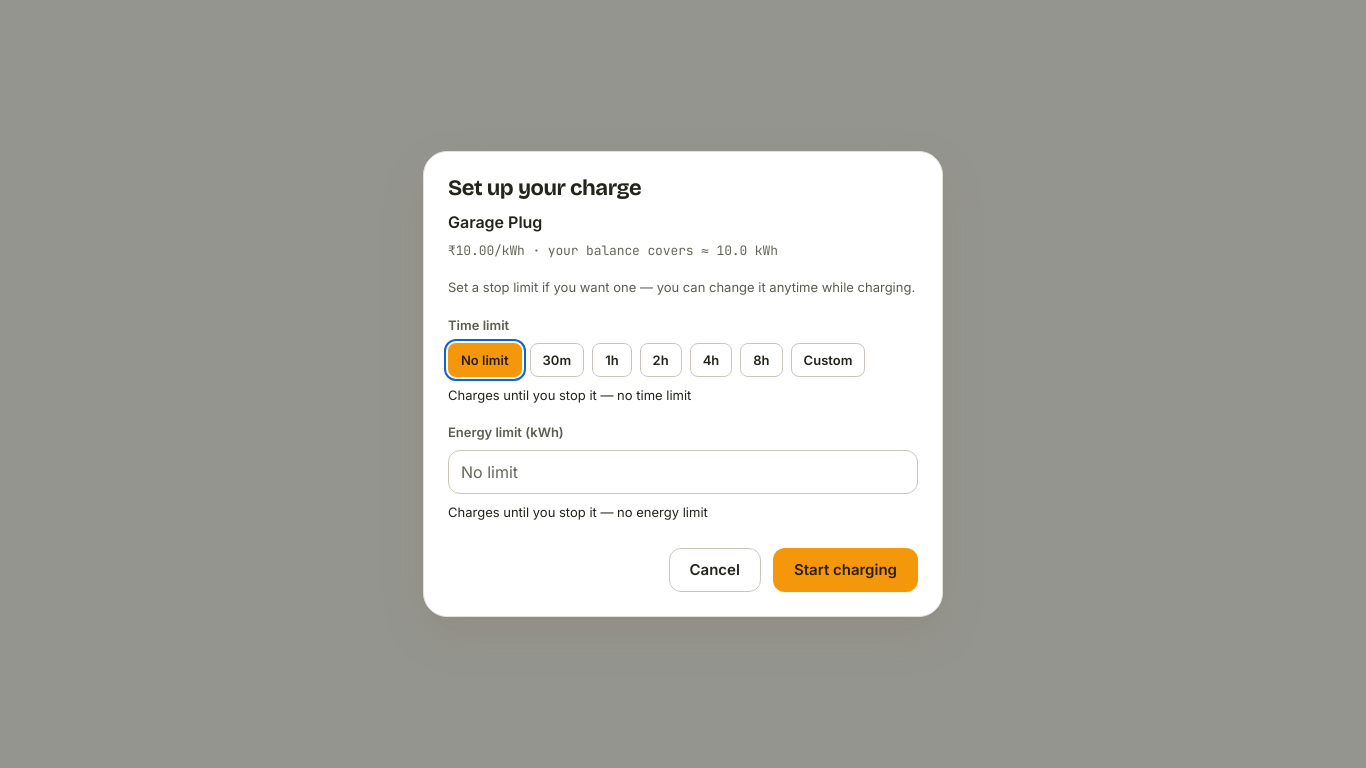
Scenario: ChargeSetupModal — limits payload › custom time cannot exceed 24 hours (1440 minutes)
The width and height of the screenshot is (1366, 768).
Click the button "Custom": (828, 360) [791,343,865,377]
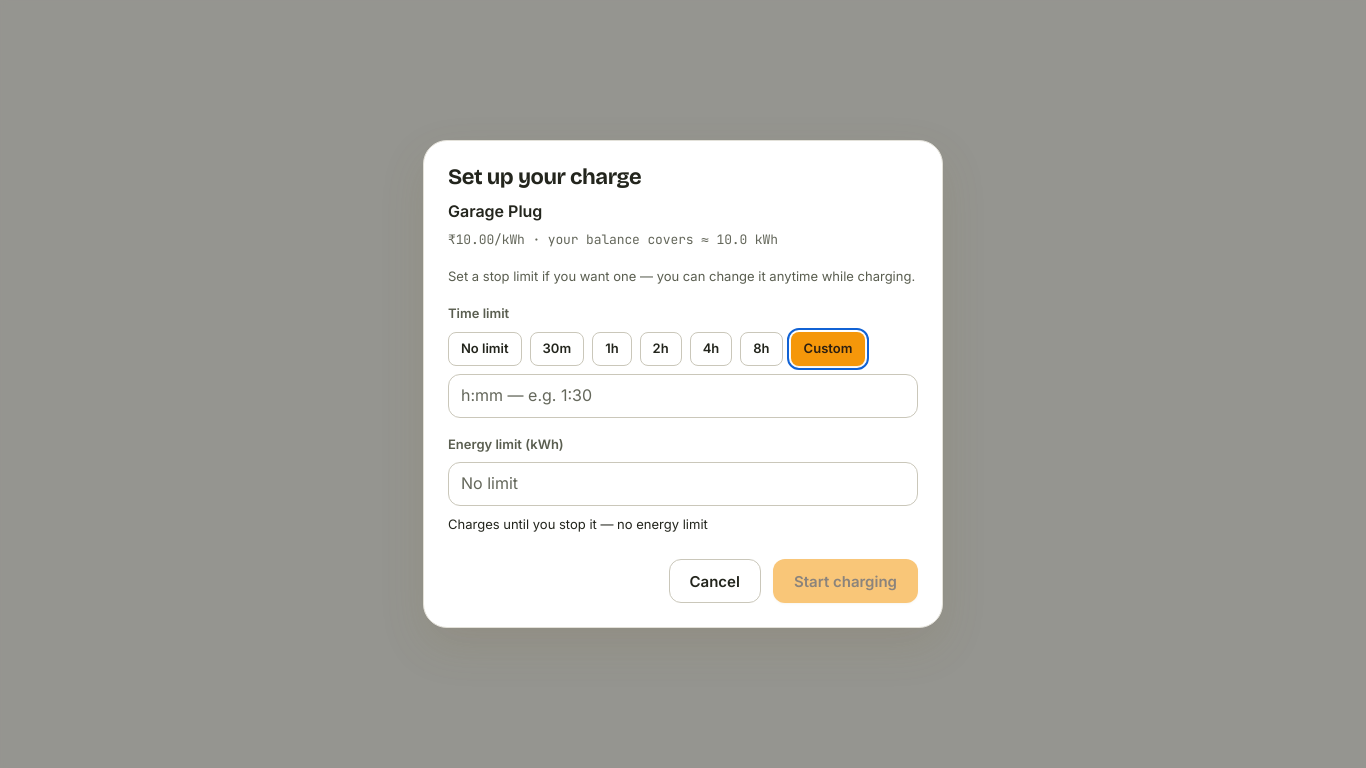
In the field named "custom time limit": (683, 396) [448,374,918,418], type "25:00"
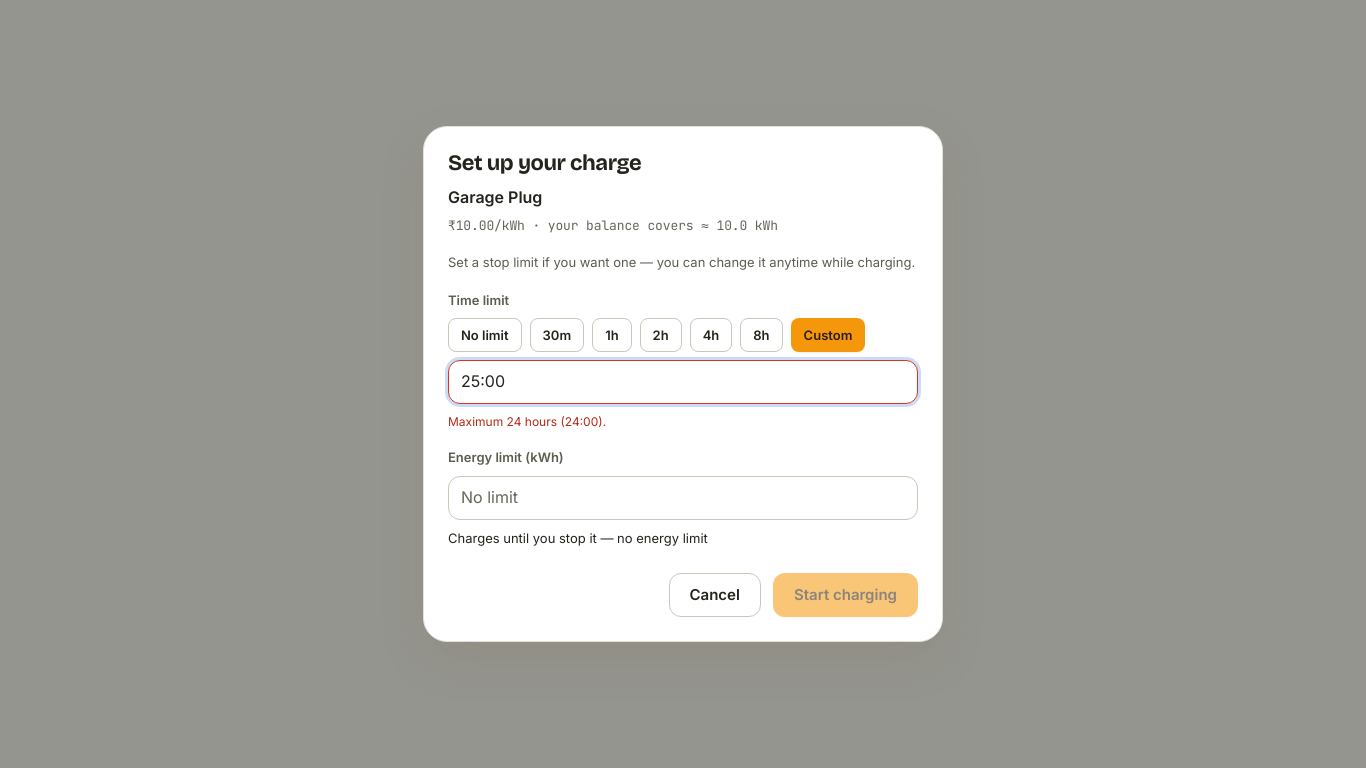
Check: the button "Start charging" is disabled, box [773,573,918,617]
Check: the text "Maximum 24 hours (24:00)." is shown, box [448,414,606,429]
# 24:00 should be valid
Clear the field named "custom time limit": (683, 382) [448,360,918,404]
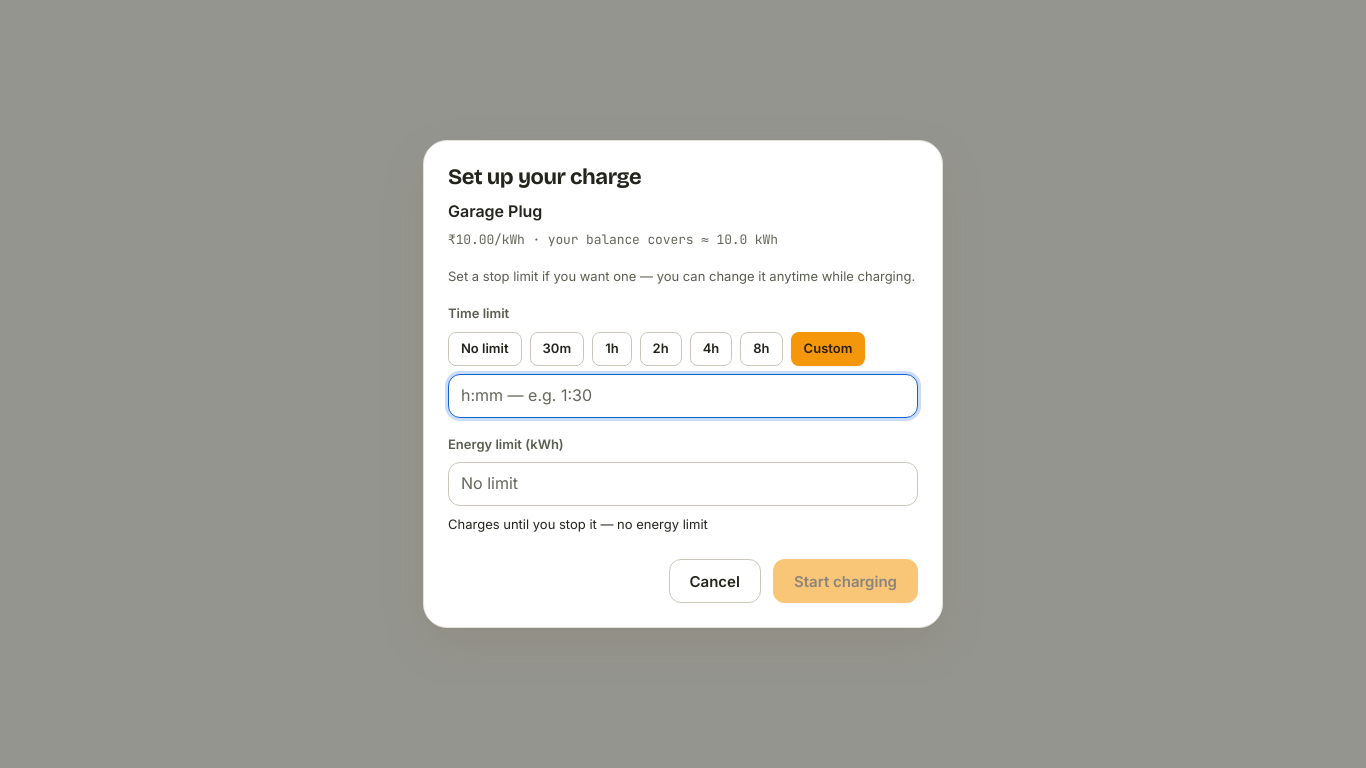
In the field named "custom time limit": (683, 396) [448,374,918,418], type "24:00"
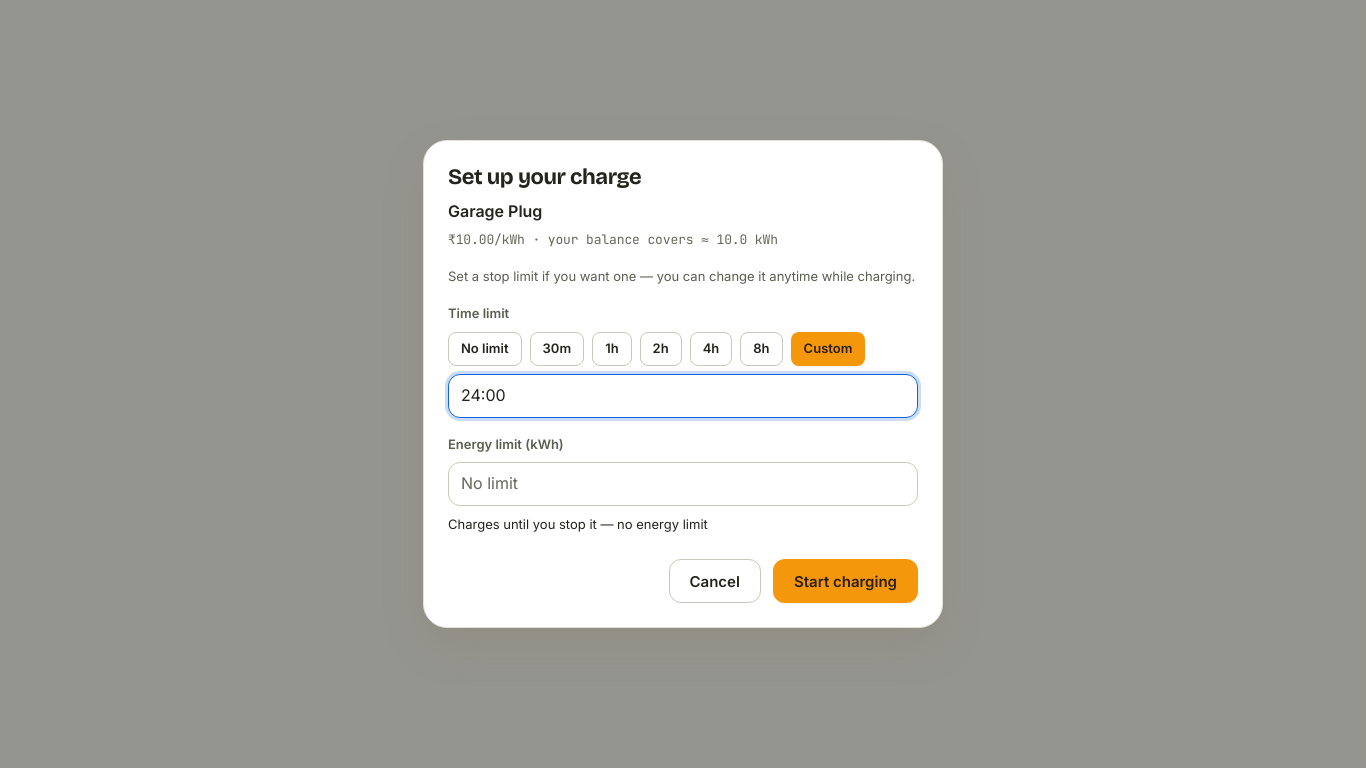
Check: the text "Maximum 24 hours" is not shown
Check: the button "Start charging" is enabled, box [773,559,918,603]
